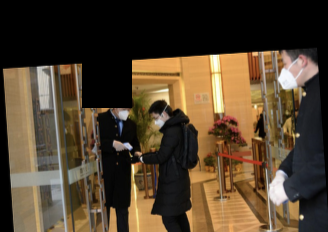with_mask: (276, 55, 300, 92), (116, 105, 131, 122), (152, 115, 164, 127), (285, 108, 290, 116)
